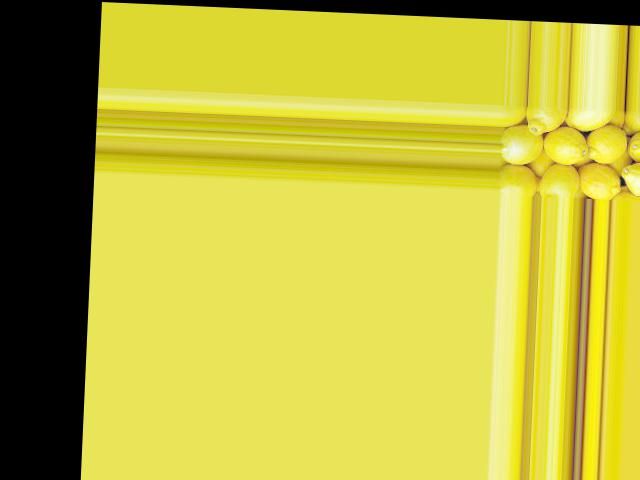lemon: (500, 107, 524, 129)
